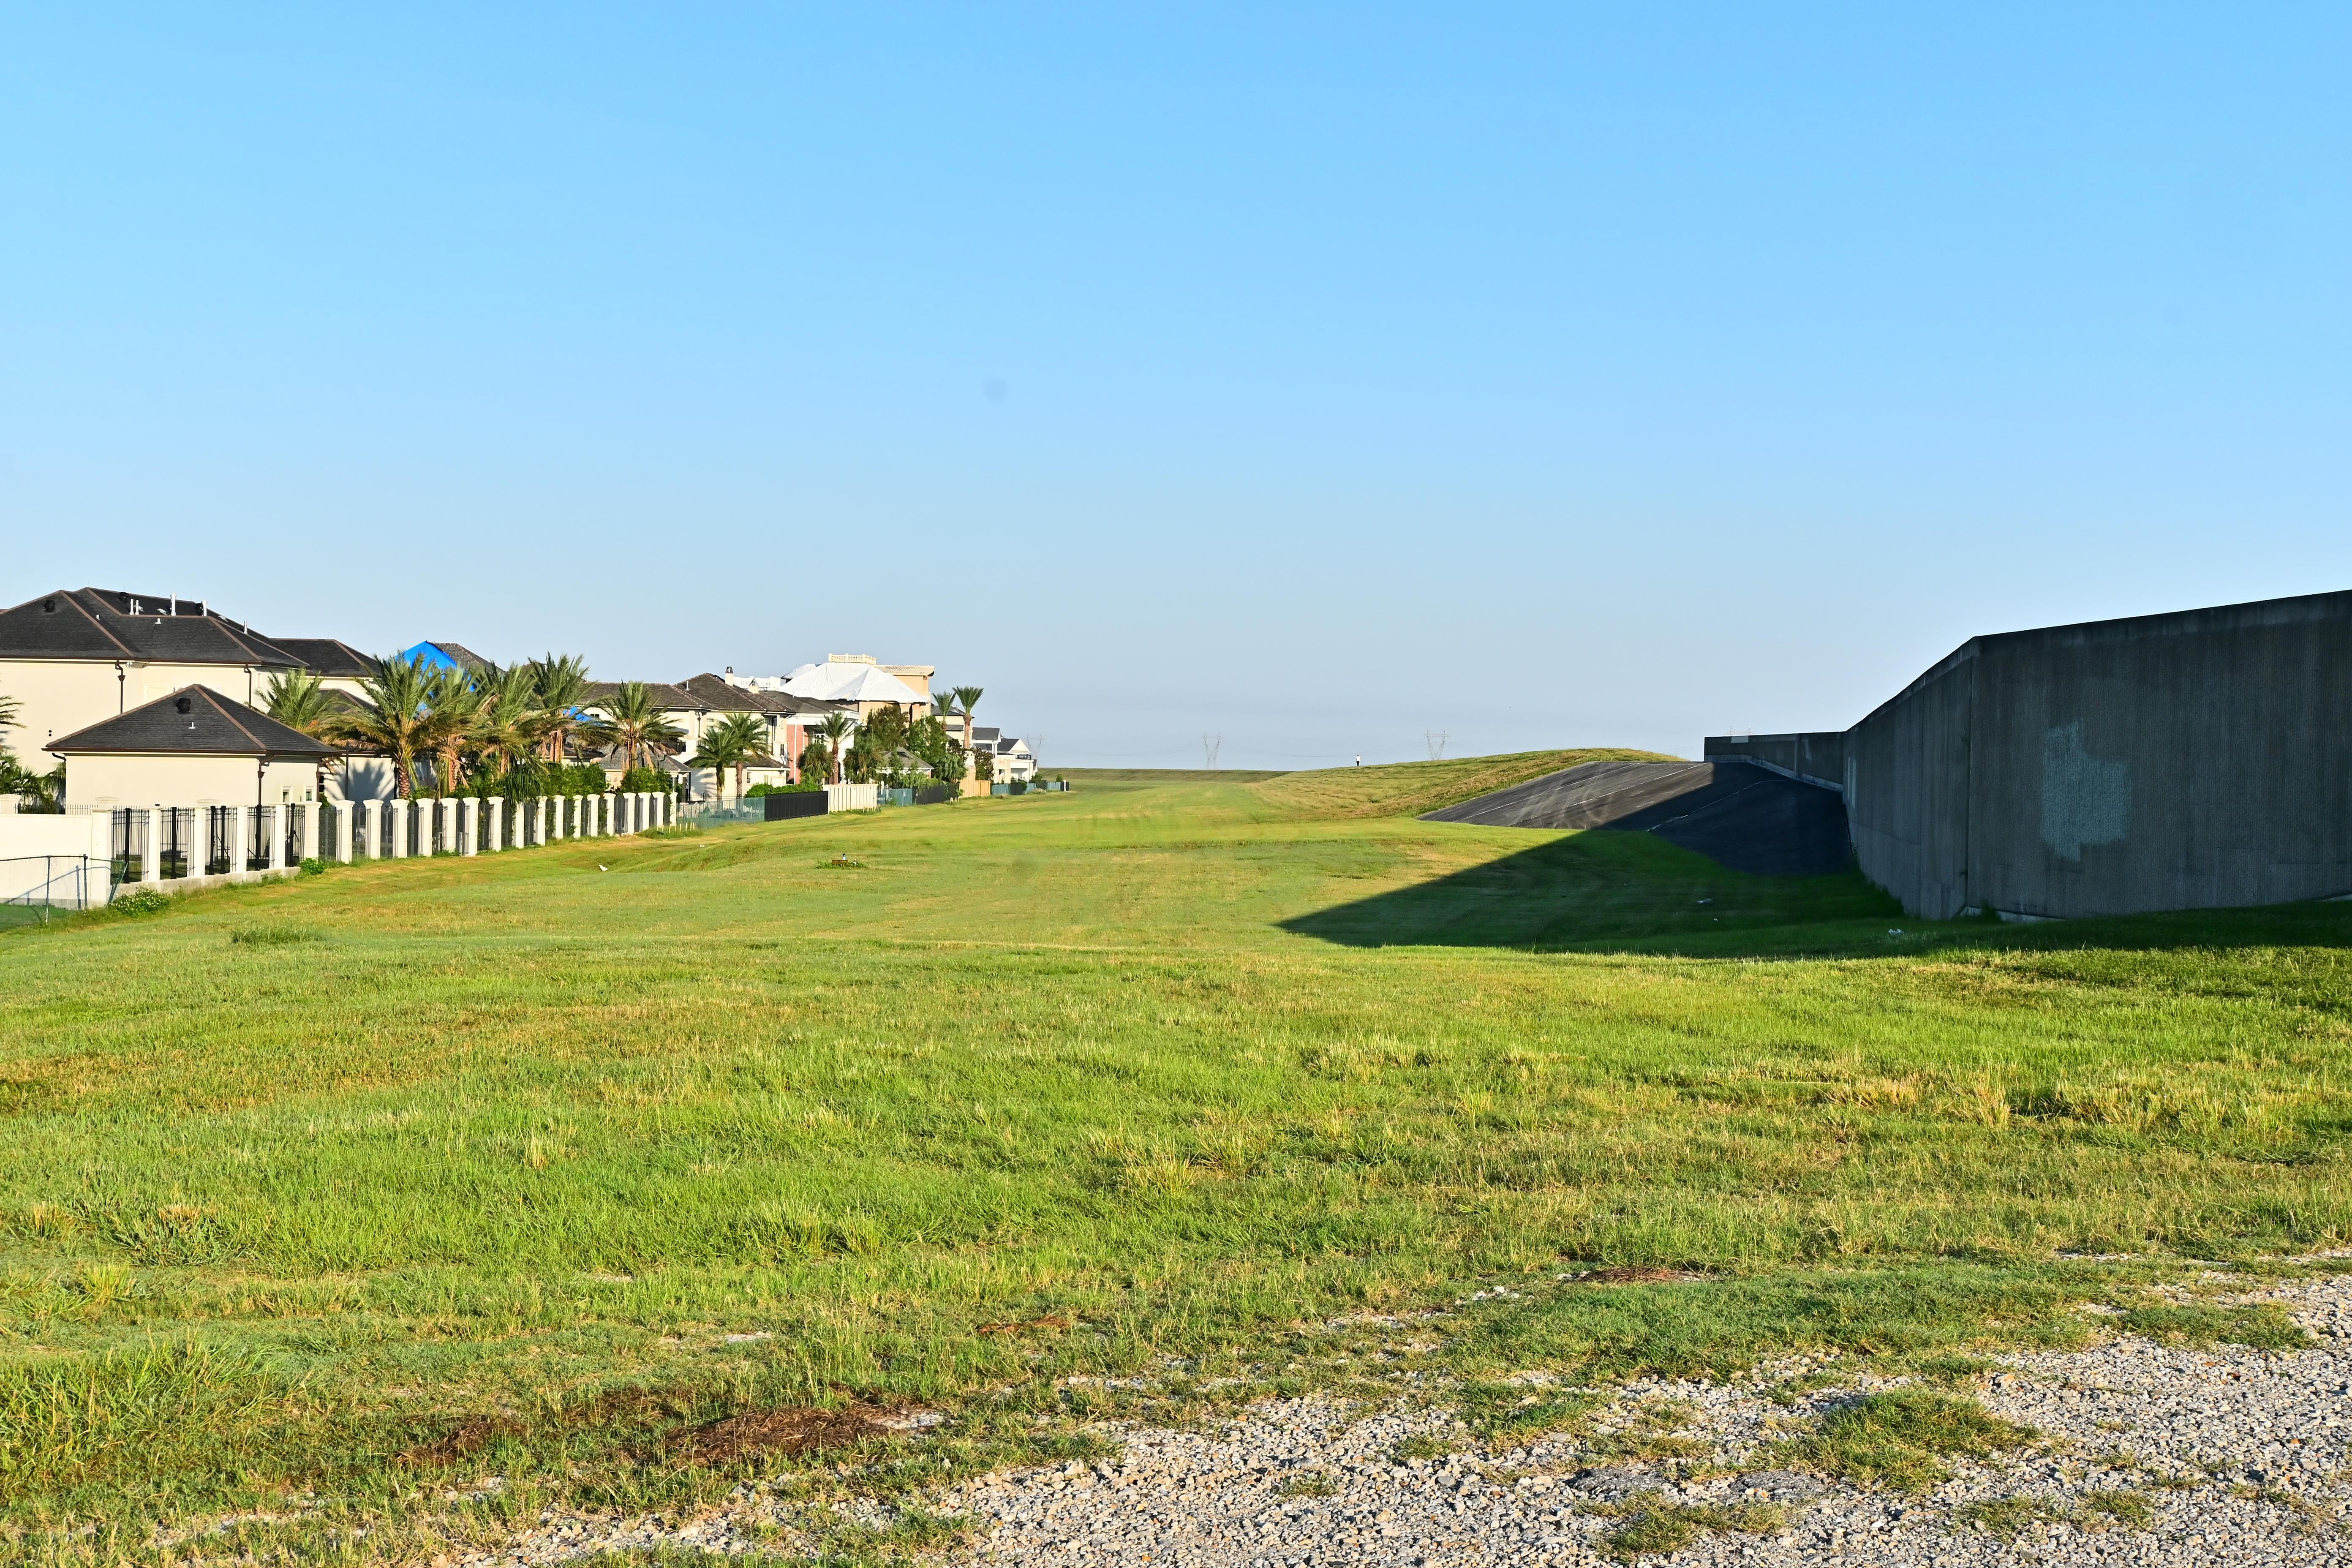affected: (37, 662, 361, 861)
